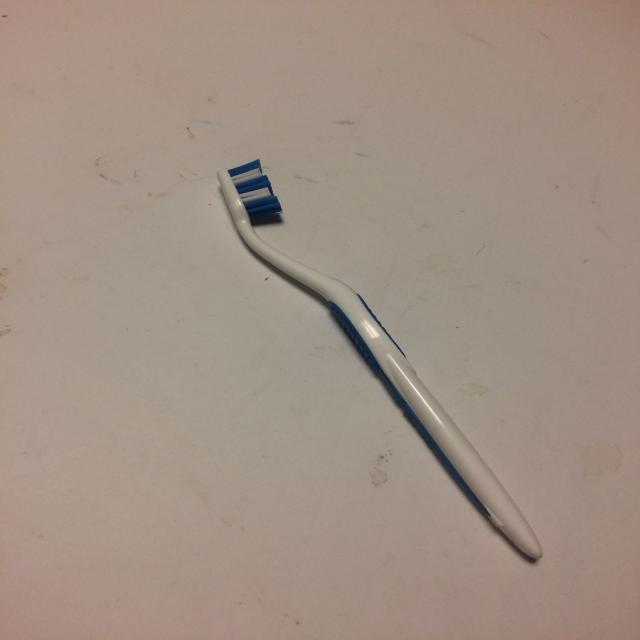trash: (218, 158, 544, 560)
